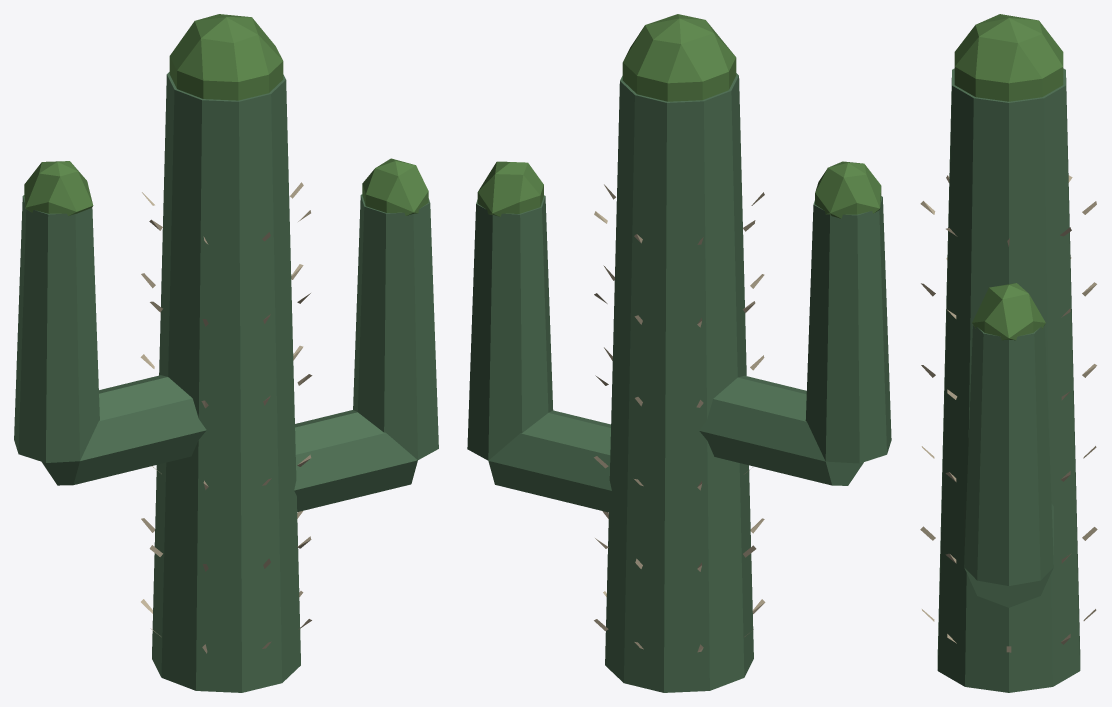
Rendered from vegetation-cactus-branch.lod2.glb.
3 renders of one model, left to right at view 1: azimuth 30°, elevation 25°; view 2: azimuth 150°, elevation 25°; view 3: azimuth 270°, elevation 25°, orthographic.
Visible parts, largest first — view 1: vegetation-cactus-branch__body; view 2: vegetation-cactus-branch__body; view 3: vegetation-cactus-branch__body.
Boxes of the visible parts, left/top/right/bottom form: vegetation-cactus-branch__body: left=14, top=14, right=438, bottom=692; vegetation-cactus-branch__body: left=467, top=14, right=891, bottom=692; vegetation-cactus-branch__body: left=920, top=14, right=1097, bottom=692.
Size of the model in its own units: 1.6 by 2.37 by 0.5932.
